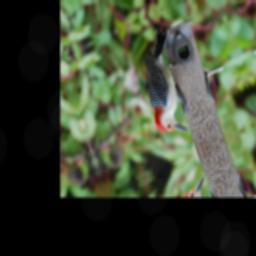Woodpecker: (126, 19, 202, 143)
